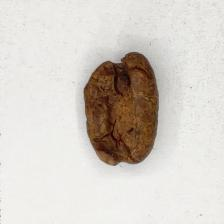NG: (91, 55, 147, 166)
